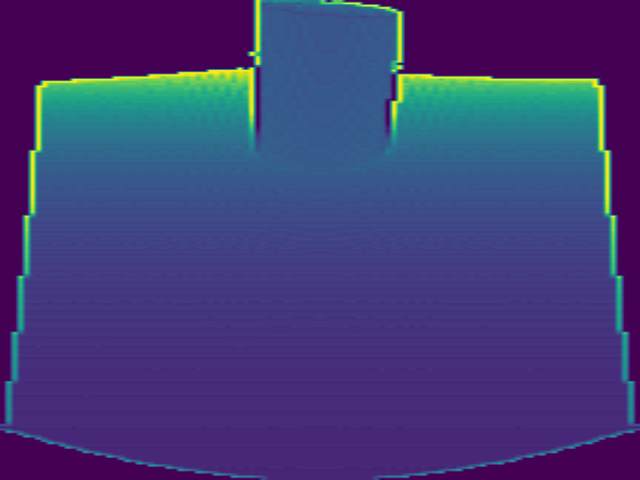cylinder: (246, 3, 403, 164)
